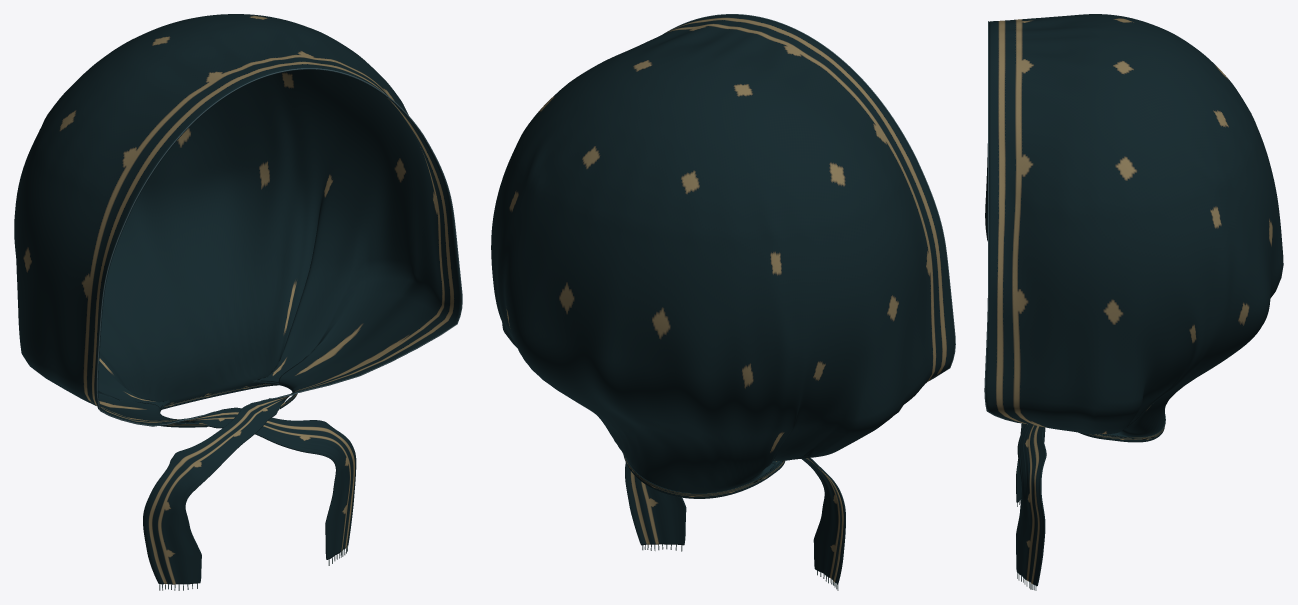
Rendered from Masculine-tshirt-compact-pashmina248-headgear.glb.
The picture shows the model from 3 angles, left to right: view 1: azimuth 30°, elevation 25°; view 2: azimuth 150°, elevation 25°; view 3: azimuth 270°, elevation 25°; orthographic projection. The views are drawn at different scales.
Parts seen in each view (by area): view 1: 226 headgear / Headwear / continuous woven pashmina239, 226 headgear / Headwear / face edge239; view 2: 226 headgear / Headwear / continuous woven pashmina239, 226 headgear / Headwear / face edge239; view 3: 226 headgear / Headwear / continuous woven pashmina239, 226 headgear / Headwear / face edge239.
Part boxes in pixels (<box>): 226 headgear / Headwear / continuous woven pashmina239: <box>14,14,461,584</box>; 226 headgear / Headwear / face edge239: <box>96,68,462,426</box>; 226 headgear / Headwear / continuous woven pashmina239: <box>491,14,954,584</box>; 226 headgear / Headwear / face edge239: <box>664,14,955,381</box>; 226 headgear / Headwear / continuous woven pashmina239: <box>985,14,1283,586</box>; 226 headgear / Headwear / face edge239: <box>984,21,1020,423</box>.
Bounding box in the file's own units: 1.03 × 1.35 × 0.7123.
3 materials, 1 textured.
